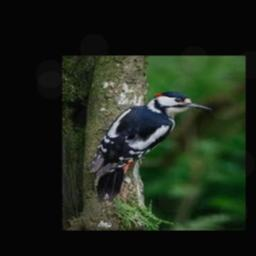Woodpecker: (90, 91, 211, 203)
